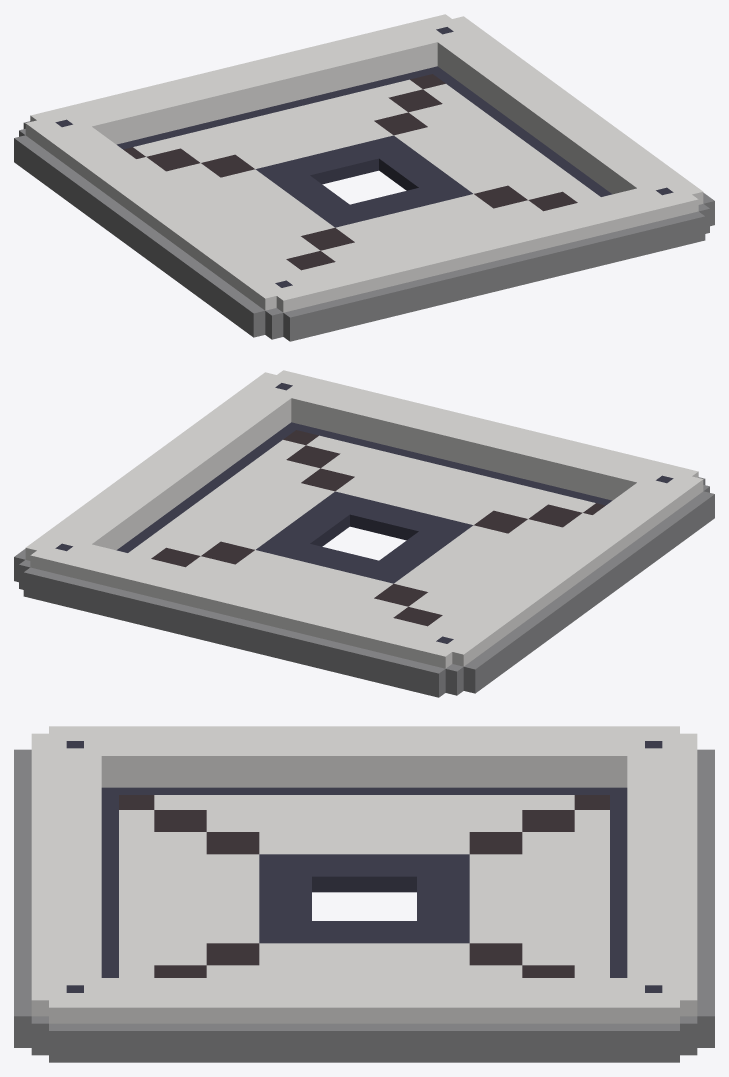
File: Button-1.obj
3 renders of one model, top to bottom at view 1: azimuth 30°, elevation 25°; view 2: azimuth 150°, elevation 25°; view 3: azimuth 270°, elevation 25°, orthographic. The views are drawn at different scales.
Size of the model in its own units: 4 by 0.3 by 4.
